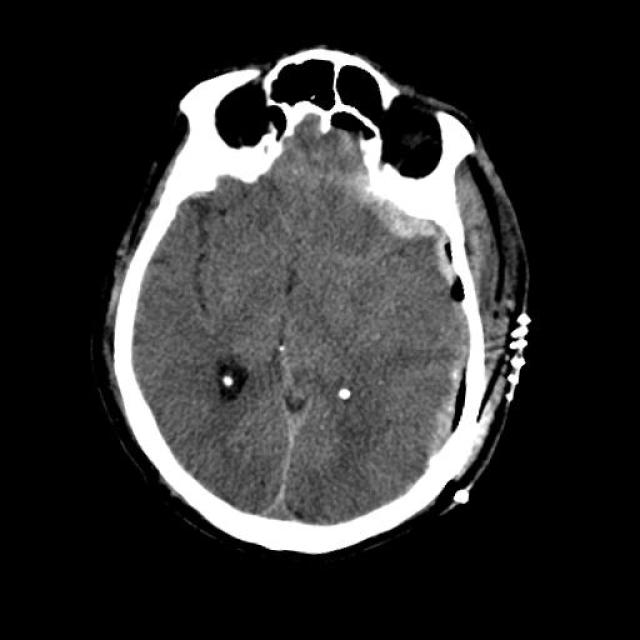Subdural: (362, 184, 478, 308)
